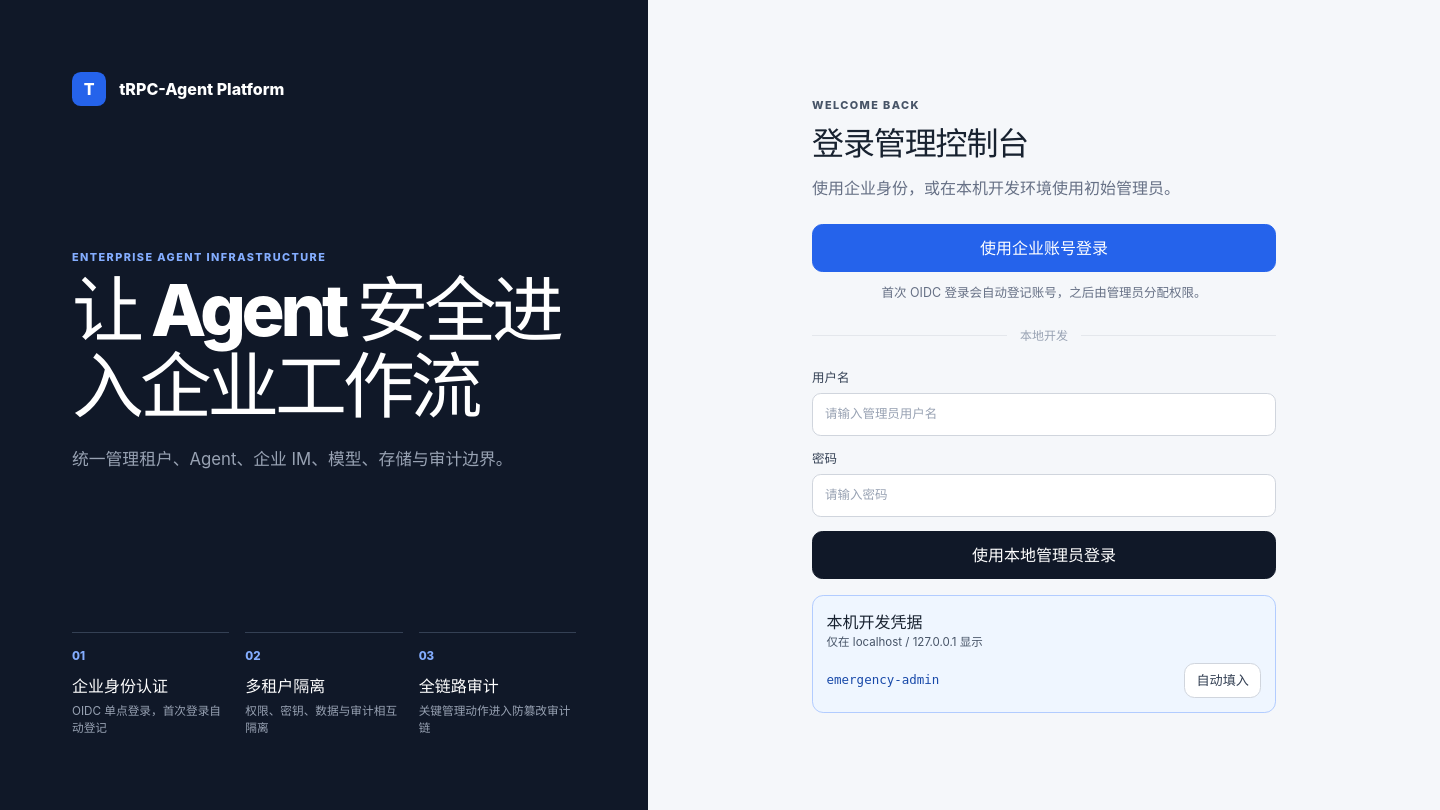
Test: 错误的应急凭据显示失败提示
This screenshot has width=1440, height=810.
Expected: the button named "应急登录" is shown, [812, 531, 1276, 579]
Type "admin" into the field labelled "用户名".
click(1044, 415); type("admin")  # box [812, 393, 1276, 436]
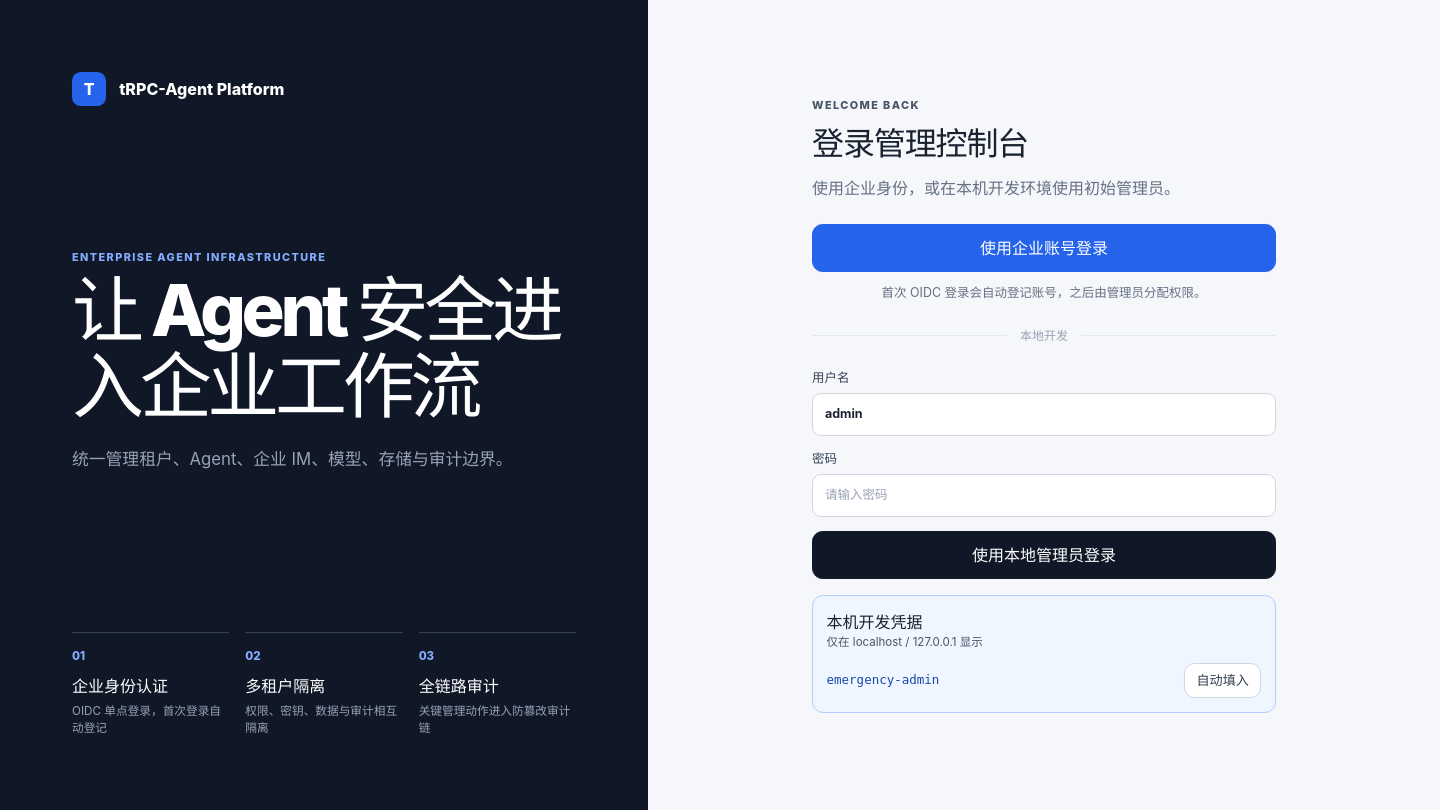
Type "wrong" into the password field labelled "密码".
click(1044, 496); type("wrong")  # box [812, 474, 1276, 517]
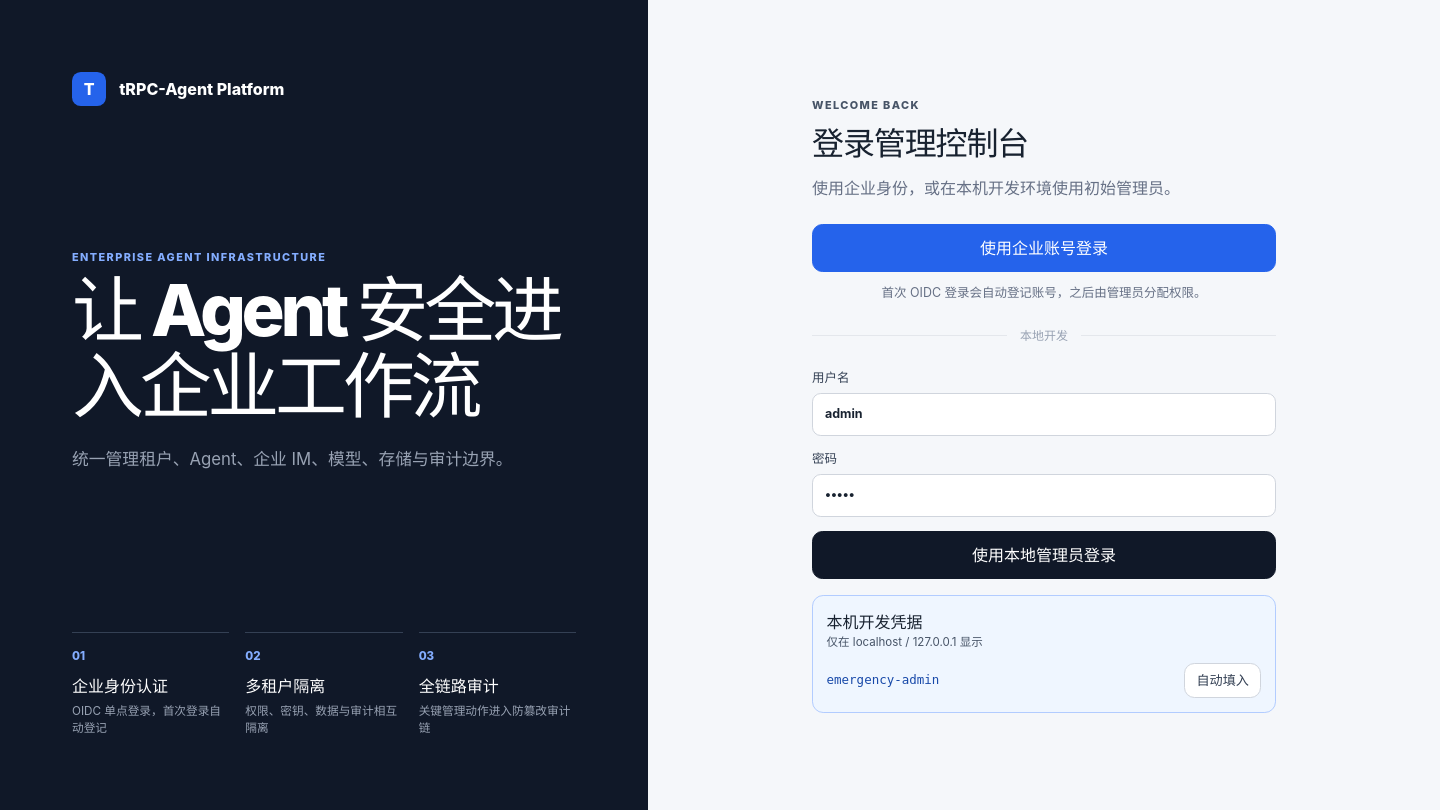
Click the button named "应急登录".
click(1044, 555)  # box [812, 531, 1276, 579]
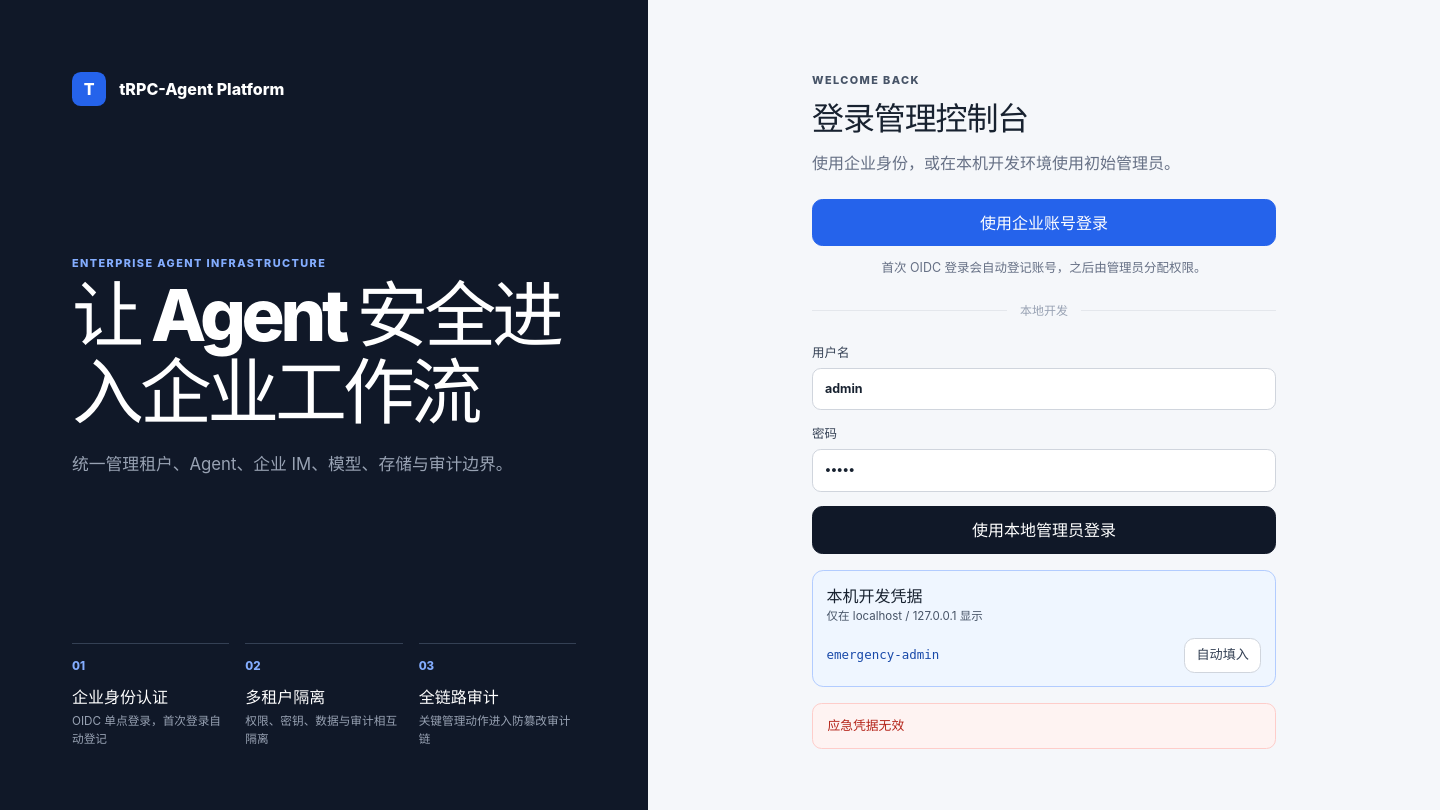
Now the text "应急凭据无效" is shown, box [812, 703, 1276, 748]
